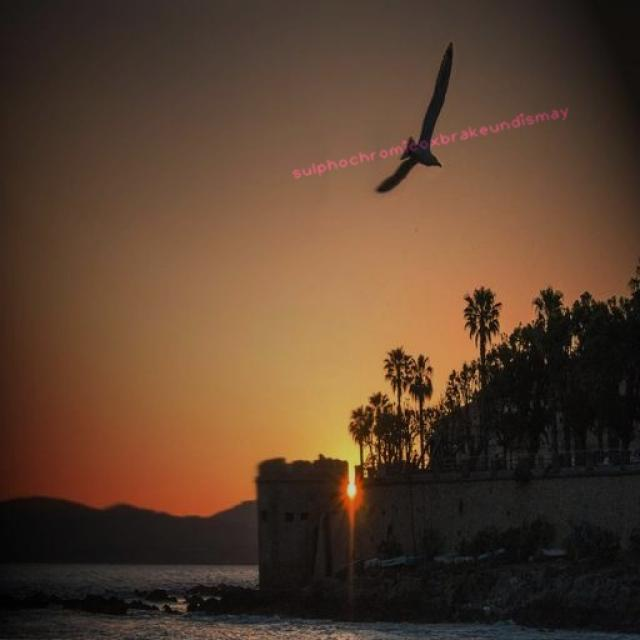watermark: (288, 102, 570, 181)
